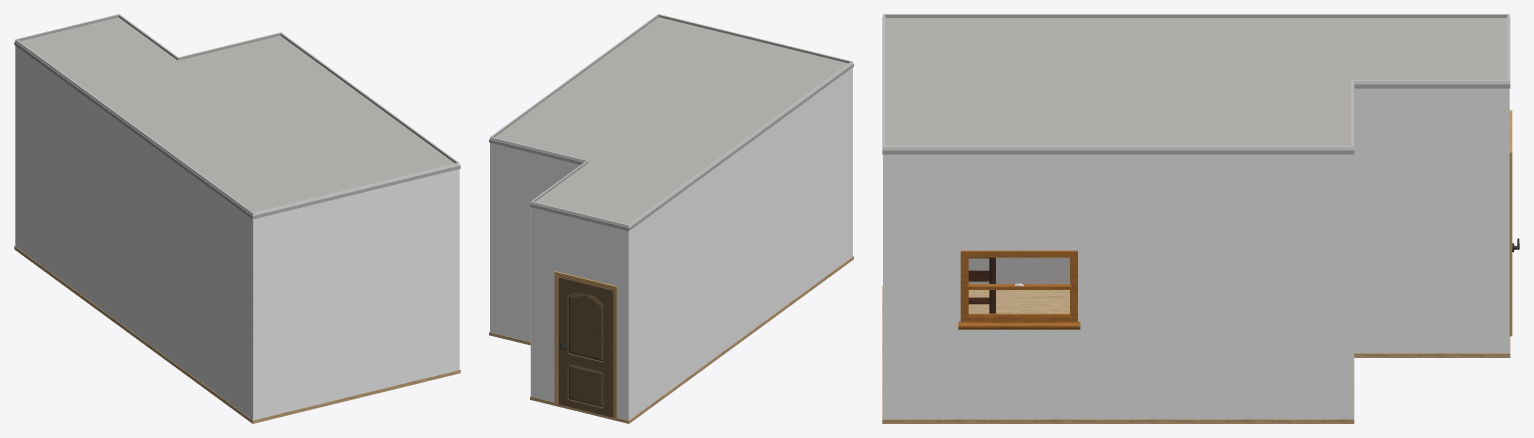
File: ProcTHOR-Train-49.glb
The picture shows the model from 3 angles, left to right: view 1: azimuth 30°, elevation 25°; view 2: azimuth 150°, elevation 25°; view 3: azimuth 270°, elevation 25°; orthographic projection. The views are drawn at different scales.
Parts seen in each view (by area): view 1: WallInside#wall|exterior|3.24|0.00|3.24|6.49, WallInside#wall|exterior|0.00|6.49|3.24|6.49, Ceiling#room|2|c, Floor#room|2|f, WallInside#wall|2|0.00|1.62|0.00|6.49; view 2: WallInside#wall|exterior|3.24|0.00|3.24|6.49, Ceiling#room|2|c, WallInside#wall|exterior|1.62|0.00|3.24|0.00, WallInside#wall|exterior|0.00|1.62|1.62|1.62, Doorway_6, Floor#room|2|f, WallInside#wall|2|0.00|6.49|3.24|6.49, WallInside#wall|2|0.00|1.62|0.00|6.49; view 3: WallInside#wall|exterior|0.00|1.62|0.00|6.49, Ceiling#room|2|c, WallInside#wall|exterior|1.62|0.00|1.62|1.62, Floor#room|2|f, WallInside#wall|2|3.24|0.00|3.24|6.49, Window_Hung_48x32, Doorway_6, Bed_18_2, WallInside#wall|exterior|3.24|0.00|3.24|6.49.
Boxes of the visible parts, x1,y1,x2,y2 form: WallInside#wall|exterior|3.24|0.00|3.24|6.49: (15, 39, 252, 419); WallInside#wall|exterior|0.00|6.49|3.24|6.49: (253, 163, 459, 420); Ceiling#room|2|c: (14, 17, 460, 219); Floor#room|2|f: (14, 246, 460, 423); WallInside#wall|2|0.00|1.62|0.00|6.49: (280, 32, 457, 163); WallInside#wall|exterior|3.24|0.00|3.24|6.49: (629, 61, 852, 420); Ceiling#room|2|c: (489, 17, 853, 230); WallInside#wall|exterior|1.62|0.00|3.24|0.00: (531, 201, 628, 420); WallInside#wall|exterior|0.00|1.62|1.62|1.62: (490, 137, 586, 341); Doorway_6: (554, 271, 617, 418); Floor#room|2|f: (489, 256, 853, 423); WallInside#wall|2|0.00|6.49|3.24|6.49: (659, 14, 851, 63); WallInside#wall|2|0.00|1.62|0.00|6.49: (491, 14, 658, 137); WallInside#wall|exterior|0.00|1.62|0.00|6.49: (883, 146, 1353, 419); Ceiling#room|2|c: (882, 16, 1510, 154); WallInside#wall|exterior|1.62|0.00|1.62|1.62: (1352, 80, 1509, 353); Floor#room|2|f: (882, 286, 1510, 423); WallInside#wall|2|3.24|0.00|3.24|6.49: (885, 14, 1508, 283); Window_Hung_48x32: (958, 250, 1080, 329); Doorway_6: (1509, 110, 1519, 336); Bed_18_2: (968, 257, 995, 313); WallInside#wall|exterior|3.24|0.00|3.24|6.49: (884, 14, 1509, 14).
Size of the model in its own units: 3.38 by 3.17 by 6.62.
Materials: 107 (41 with a texture image).
